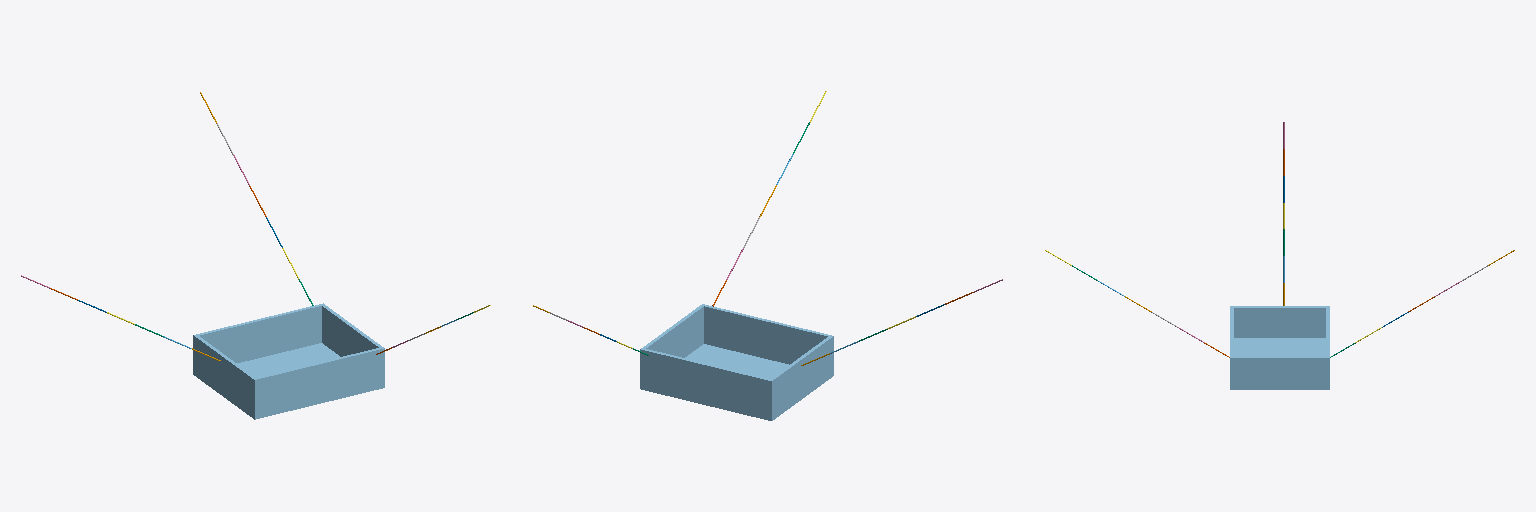
--- Render facts (derived) ---
Views: 3 orthographic renders of the robot side by side, from view 1: azimuth 30°, elevation 25°; view 2: azimuth 150°, elevation 25°; view 3: azimuth 270°, elevation 25°.
Model flycrane with 95 links and 94 joints (7 revolute, 84 continuous, 3 fixed), rooted at load_link, posed all joints at 0.
Visible links, largest first — view 1: load_link; view 2: load_link; view 3: load_link.
Boxes of the visible links, <box> form: load_link: <box>193,303,384,419</box>; load_link: <box>640,304,833,420</box>; load_link: <box>1230,306,1329,389</box>.
Size in the robot's own frame: 1.4 by 2.13 by 0.6829 metres.
Meshes: 4 distinct files referenced, 1 mesh visuals loaded (1 Collada DAE); not drawn: 15 (reference not matched to a file when rendering).

The robot description file, URDF, robot "flycrane":
<?xml version="1.0" ?>
<robot name="flycrane">
  <link name="Falcon1/base_link"/>
  <joint name="Falcon1/base_joint" type="fixed">
    <origin rpy="0 0 0" xyz="0 0 0.03"/>
    <parent link="Falcon1/base_link"/>
    <child link="Falcon1/base_link_inertia"/>
  </joint>
  <link name="Falcon1/base_link_inertia">
    <inertial>
      <mass value="0.6"/>
      <!-- [kg] -->
      <origin xyz="0 0 0"/>
      <inertia ixx="0.00164" ixy="0.0" ixz="0.0" iyy="0.00184" iyz="0.0" izz="0.0030"/>
    </inertial>
    <visual>
      <origin rpy="0 0 0" xyz="0 0 0"/>
      <geometry>
        <mesh filename="iris.dae" scale="0.5 0.5 0.5"  />
        <box size="0.1 0.1 0.05"/>
        <!-- [m] [m] [m] -->
      </geometry>
    </visual>
    <collision>
      <origin rpy="0 0 0" xyz="0 0 0"/>
      <geometry>
        <box size="0.1 0.1 0.05"/>
        <!-- [m] [m] [m] -->
      </geometry>
    </collision>
  </link>
  <joint name="Falcon1/rotor_0_joint" type="continuous">
    <origin rpy="0 0 0" xyz="0.075 -0.075 0.05"/>
    <axis xyz="0 0 1"/>
    <!-- <limit effort="2000" velocity="${max_rot_velocity}" /> -->
    <parent link="Falcon1/base_link"/>
    <child link="Falcon1/rotor_0"/>
  </joint>
  <link name="Falcon1/rotor_0">
    <inertial>
      <mass value="0.0042"/>
      <!-- [kg] -->
      <inertia ixx="8.189996723999999e-07" ixy="0.0" ixz="0.0" iyy="5.648297740679999e-05" iyz="0.0" izz="5.72389771044e-05"/>
    </inertial>
    <visual>
      <geometry>
        <mesh filename="propeller_ccw.dae" scale="0.127 0.127 0.127"/>
        <!-- The propeller meshes have a radius of 1m -->
        <!-- <box size="${2*radius_rotor} 0.01 0.005"/> -->
      </geometry>
    </visual>
    <collision>
      <geometry>
        <cylinder length="0.005" radius="0.127"/>
        <!-- [m] -->
      </geometry>
    </collision>
  </link>
  <joint name="Falcon1/rotor_1_joint" type="continuous">
    <origin rpy="0 0 0" xyz="-0.075 0.075 0.05"/>
    <axis xyz="0 0 1"/>
    <!-- <limit effort="2000" velocity="${max_rot_velocity}" /> -->
    <parent link="Falcon1/base_link"/>
    <child link="Falcon1/rotor_1"/>
  </joint>
  <link name="Falcon1/rotor_1">
    <inertial>
      <mass value="0.0042"/>
      <!-- [kg] -->
      <inertia ixx="8.189996723999999e-07" ixy="0.0" ixz="0.0" iyy="5.648297740679999e-05" iyz="0.0" izz="5.72389771044e-05"/>
    </inertial>
    <visual>
      <geometry>
        <mesh filename="propeller_ccw.dae" scale="0.127 0.127 0.127"/>
        <!-- The propeller meshes have a radius of 1m -->
        <!-- <box size="${2*radius_rotor} 0.01 0.005"/> -->
      </geometry>
    </visual>
    <collision>
      <geometry>
        <cylinder length="0.005" radius="0.127"/>
        <!-- [m] -->
      </geometry>
    </collision>
  </link>
  <joint name="Falcon1/rotor_2_joint" type="continuous">
    <origin rpy="0 0 0" xyz="-0.075 -0.075 0.05"/>
    <axis xyz="0 0 1"/>
    <!-- <limit effort="2000" velocity="${max_rot_velocity}" /> -->
    <parent link="Falcon1/base_link"/>
    <child link="Falcon1/rotor_2"/>
  </joint>
  <link name="Falcon1/rotor_2">
    <inertial>
      <mass value="0.0042"/>
      <!-- [kg] -->
      <inertia ixx="8.189996723999999e-07" ixy="0.0" ixz="0.0" iyy="5.648297740679999e-05" iyz="0.0" izz="5.72389771044e-05"/>
    </inertial>
    <visual>
      <geometry>
        <mesh filename="propeller_cw.dae" scale="0.127 0.127 0.127"/>
        <!-- The propeller meshes have a radius of 1m -->
        <!-- <box size="${2*radius_rotor} 0.01 0.005"/> -->
      </geometry>
    </visual>
    <collision>
      <geometry>
        <cylinder length="0.005" radius="0.127"/>
        <!-- [m] -->
      </geometry>
    </collision>
  </link>
  <joint name="Falcon1/rotor_3_joint" type="continuous">
    <origin rpy="0 0 0" xyz="0.075 0.075 0.05"/>
    <axis xyz="0 0 1"/>
    <!-- <limit effort="2000" velocity="${max_rot_velocity}" /> -->
    <parent link="Falcon1/base_link"/>
    <child link="Falcon1/rotor_3"/>
  </joint>
  <link name="Falcon1/rotor_3">
    <inertial>
      <mass value="0.0042"/>
      <!-- [kg] -->
      <inertia ixx="8.189996723999999e-07" ixy="0.0" ixz="0.0" iyy="5.648297740679999e-05" iyz="0.0" izz="5.72389771044e-05"/>
    </inertial>
    <visual>
      <geometry>
        <mesh filename="propeller_cw.dae" scale="0.127 0.127 0.127"/>
        <!-- The propeller meshes have a radius of 1m -->
        <!-- <box size="${2*radius_rotor} 0.01 0.005"/> -->
      </geometry>
    </visual>
    <collision>
      <geometry>
        <cylinder length="0.005" radius="0.127"/>
        <!-- [m] -->
      </geometry>
    </collision>
  </link>
  <!-- IMU link -->
  <link name="Falcon1/imu_link">
    <inertial>
      <inertia ixx="0.00001" ixy="0.0" ixz="0.0" iyy="0.00001" iyz="0.0" izz="0.00001"/>
      <mass value="1e-05"/>
      <!-- [kg] -->
      <origin rpy="0 0 0" xyz="0 0 0"/>
    </inertial>
  </link>
  <!-- IMU joint -->
  <joint name="Falcon1/imu_joint" type="revolute">
    <origin rpy="0 0 0" xyz="0 0 0.025"/>
    <parent link="Falcon1/base_link"/>
    <child link="Falcon1/imu_link"/>
    <limit effort="0" lower="0" upper="0" velocity="0"/>
  </joint>

  <!-- odometry link -->
  <link name="Falcon1/odometry_sensor_link">
    <inertial>
      <inertia ixx="0.00001" ixy="0.0" ixz="0.0" iyy="0.00001" iyz="0.0" izz="0.00001"/>
      <mass value="1e-05"/>
      <!-- [kg] -->
    </inertial>
  </link>
  <!-- odometry joint -->
  <joint name="Falcon1/odometry_sensor_joint" type="revolute">
    <parent link="Falcon1/base_link"/>
    <origin rpy="0.0 0.0 0.0" xyz="0.0 0.0 0.03"/>
    <child link="Falcon1/odometry_sensor_link"/>
    <limit effort="0" lower="0" upper="0" velocity="0"/>
  </joint>
  <!-- =============================================================== -->
  <!-- ==================== ROS INTERFACE MACRO ====================== -->
  <!-- =============================================================== -->
  <!-- <xacro:macro
  		name="ros_interface_plugin_macro"
  		params="namespace">
    <gazebo>
      <plugin name="ros_interface_plugin" filename="librotors_gazebo_ros_interface_plugin.so">
        <robotNamespace>${namespace}</robotNamespace>
      </plugin>
    </gazebo>
  </xacro:macro>-->
  <link name="Falcon2/base_link"/>
  <joint name="Falcon2/base_joint" type="fixed">
    <origin rpy="0 0 0" xyz="0 0 0.03"/>
    <parent link="Falcon2/base_link"/>
    <child link="Falcon2/base_link_inertia"/>
  </joint>
  <link name="Falcon2/base_link_inertia">
    <inertial>
      <mass value="0.6"/>
      <!-- [kg] -->
      <origin xyz="0 0 0"/>
      <inertia ixx="0.00164" ixy="0.0" ixz="0.0" iyy="0.00184" iyz="0.0" izz="0.0030"/>
    </inertial>
    <visual>
      <origin rpy="0 0 0" xyz="0 0 0"/>
      <geometry>
        <mesh filename="iris.dae" scale="0.5 0.5 0.5"  />
        <box size="0.1 0.1 0.05"/>
        <!-- [m] [m] [m] -->
      </geometry>
    </visual>
    <collision>
      <origin rpy="0 0 0" xyz="0 0 0"/>
      <geometry>
        <box size="0.1 0.1 0.05"/>
        <!-- [m] [m] [m] -->
      </geometry>
    </collision>
  </link>
  <!-- attach multirotor_base_plugin to the base_link -->
  <joint name="Falcon2/rotor_0_joint" type="continuous">
    <origin rpy="0 0 0" xyz="0.075 -0.075 0.05"/>
    <axis xyz="0 0 1"/>
    <!-- <limit effort="2000" velocity="${max_rot_velocity}" /> -->
    <parent link="Falcon2/base_link"/>
    <child link="Falcon2/rotor_0"/>
  </joint>
  <link name="Falcon2/rotor_0">
    <inertial>
      <mass value="0.0042"/>
      <!-- [kg] -->
      <inertia ixx="8.189996723999999e-07" ixy="0.0" ixz="0.0" iyy="5.648297740679999e-05" iyz="0.0" izz="5.72389771044e-05"/>
    </inertial>
    <visual>
      <geometry>
        <mesh filename="propeller_ccw.dae" scale="0.127 0.127 0.127"/>
        <!-- The propeller meshes have a radius of 1m -->
        <!-- <box size="${2*radius_rotor} 0.01 0.005"/> -->
      </geometry>
    </visual>
    <collision>
      <geometry>
        <cylinder length="0.005" radius="0.127"/>
        <!-- [m] -->
      </geometry>
    </collision>
  </link>


  <joint name="Falcon2/rotor_1_joint" type="continuous">
    <origin rpy="0 0 0" xyz="-0.075 0.075 0.05"/>
    <axis xyz="0 0 1"/>
    <!-- <limit effort="2000" velocity="${max_rot_velocity}" /> -->
    <parent link="Falcon2/base_link"/>
    <child link="Falcon2/rotor_1"/>
  </joint>
  <link name="Falcon2/rotor_1">
    <inertial>
      <mass value="0.0042"/>
      <!-- [kg] -->
      <inertia ixx="8.189996723999999e-07" ixy="0.0" ixz="0.0" iyy="5.648297740679999e-05" iyz="0.0" izz="5.72389771044e-05"/>
    </inertial>
    <visual>
      <geometry>
        <mesh filename="propeller_ccw.dae" scale="0.127 0.127 0.127"/>
        <!-- The propeller meshes have a radius of 1m -->
        <!-- <box size="${2*radius_rotor} 0.01 0.005"/> -->
      </geometry>
    </visual>
    <collision>
      <geometry>
        <cylinder length="0.005" radius="0.127"/>
        <!-- [m] -->
      </geometry>
    </collision>
  </link>


  <joint name="Falcon2/rotor_2_joint" type="continuous">
    <origin rpy="0 0 0" xyz="-0.075 -0.075 0.05"/>
    <axis xyz="0 0 1"/>
    <!-- <limit effort="2000" velocity="${max_rot_velocity}" /> -->
    <parent link="Falcon2/base_link"/>
    <child link="Falcon2/rotor_2"/>
  </joint>
  <link name="Falcon2/rotor_2">
    <inertial>
      <mass value="0.0042"/>
      <!-- [kg] -->
      <inertia ixx="8.189996723999999e-07" ixy="0.0" ixz="0.0" iyy="5.648297740679999e-05" iyz="0.0" izz="5.72389771044e-05"/>
    </inertial>
    <visual>
      <geometry>
        <mesh filename="propeller_cw.dae" scale="0.127 0.127 0.127"/>
        <!-- The propeller meshes have a radius of 1m -->
        <!-- <box size="${2*radius_rotor} 0.01 0.005"/> -->
      </geometry>
    </visual>
    <collision>
      <geometry>
        <cylinder length="0.005" radius="0.127"/>
        <!-- [m] -->
      </geometry>
    </collision>
  </link>


  <joint name="Falcon2/rotor_3_joint" type="continuous">
    <origin rpy="0 0 0" xyz="0.075 0.075 0.05"/>
    <axis xyz="0 0 1"/>
    <!-- <limit effort="2000" velocity="${max_rot_velocity}" /> -->
    <parent link="Falcon2/base_link"/>
    <child link="Falcon2/rotor_3"/>
  </joint>
  <link name="Falcon2/rotor_3">
    <inertial>
      <mass value="0.0042"/>
      <!-- [kg] -->
      <inertia ixx="8.189996723999999e-07" ixy="0.0" ixz="0.0" iyy="5.648297740679999e-05" iyz="0.0" izz="5.72389771044e-05"/>
    </inertial>
    <visual>
      <geometry>
        <mesh filename="propeller_cw.dae" scale="0.127 0.127 0.127"/>
        <!-- The propeller meshes have a radius of 1m -->
        <!-- <box size="${2*radius_rotor} 0.01 0.005"/> -->
      </geometry>
    </visual>
    <collision>
      <geometry>
        <cylinder length="0.005" radius="0.127"/>
        <!-- [m] -->
      </geometry>
    </collision>
  </link>



  <!-- IMU link -->
  <link name="Falcon2/imu_link">
    <inertial>
      <inertia ixx="0.00001" ixy="0.0" ixz="0.0" iyy="0.00001" iyz="0.0" izz="0.00001"/>
      <mass value="1e-05"/>
      <!-- [kg] -->
      <origin rpy="0 0 0" xyz="0 0 0"/>
    </inertial>
  </link>
  <!-- IMU joint -->
  <joint name="Falcon2/imu_joint" type="revolute">
    <origin rpy="0 0 0" xyz="0 0 0.025"/>
    <parent link="Falcon2/base_link"/>
    <child link="Falcon2/imu_link"/>
    <limit effort="0" lower="0" upper="0" velocity="0"/>
  </joint>

  <!-- odometry link -->
  <link name="Falcon2/odometry_sensor_link">
    <inertial>
      <inertia ixx="0.00001" ixy="0.0" ixz="0.0" iyy="0.00001" iyz="0.0" izz="0.00001"/>
      <mass value="1e-05"/>
      <!-- [kg] -->
    </inertial>
  </link>
  <!-- odometry joint -->
  <joint name="Falcon2/odometry_sensor_joint" type="revolute">
    <parent link="Falcon2/base_link"/>
    <origin rpy="0.0 0.0 0.0" xyz="0.0 0.0 0.03"/>
    <child link="Falcon2/odometry_sensor_link"/>
    <limit effort="0" lower="0" upper="0" velocity="0"/>
  </joint>

  <!-- =============================================================== -->
  <!-- ==================== ROS INTERFACE MACRO ====================== -->
  <!-- =============================================================== -->
  <!-- <xacro:macro
  		name="ros_interface_plugin_macro"
  		params="namespace">
    <gazebo>
      <plugin name="ros_interface_plugin" filename="librotors_gazebo_ros_interface_plugin.so">
        <robotNamespace>${namespace}</robotNamespace>
      </plugin>
    </gazebo>
  </xacro:macro>-->
  <link name="Falcon3/base_link"/>
  <joint name="Falcon3/base_joint" type="fixed">
    <origin rpy="0 0 0" xyz="0 0 0.03"/>
    <parent link="Falcon3/base_link"/>
    <child link="Falcon3/base_link_inertia"/>
  </joint>
  <link name="Falcon3/base_link_inertia">
    <inertial>
      <mass value="0.6"/>
      <!-- [kg] -->
      <origin xyz="0 0 0"/>
      <inertia ixx="0.00164" ixy="0.0" ixz="0.0" iyy="0.00184" iyz="0.0" izz="0.0030"/>
    </inertial>
    <visual>
      <origin rpy="0 0 0" xyz="0 0 0"/>
      <geometry>
        <mesh filename="iris.dae" scale="0.5 0.5 0.5"  />
        <box size="0.1 0.1 0.05"/>
        <!-- [m] [m] [m] -->
      </geometry>
    </visual>
    <collision>
      <origin rpy="0 0 0" xyz="0 0 0"/>
      <geometry>
        <box size="0.1 0.1 0.05"/>
        <!-- [m] [m] [m] -->
      </geometry>
    </collision>
  </link>
  <!-- attach multirotor_base_plugin to the base_link -->

  <joint name="Falcon3/rotor_0_joint" type="continuous">
    <origin rpy="0 0 0" xyz="0.075 -0.075 0.05"/>
    <axis xyz="0 0 1"/>
    <!-- <limit effort="2000" velocity="${max_rot_velocity}" /> -->
    <parent link="Falcon3/base_link"/>
    <child link="Falcon3/rotor_0"/>
  </joint>
  <link name="Falcon3/rotor_0">
    <inertial>
      <mass value="0.0042"/>
      <!-- [kg] -->
      <inertia ixx="8.189996723999999e-07" ixy="0.0" ixz="0.0" iyy="5.648297740679999e-05" iyz="0.0" izz="5.72389771044e-05"/>
    </inertial>
    <visual>
      <geometry>
        <mesh filename="propeller_ccw.dae" scale="0.127 0.127 0.127"/>
        <!-- The propeller meshes have a radius of 1m -->
        <!-- <box size="${2*radius_rotor} 0.01 0.005"/> -->
      </geometry>
    </visual>
    <collision>
      <geometry>
        <cylinder length="0.005" radius="0.127"/>
        <!-- [m] -->
      </geometry>
    </collision>
  </link>


  <joint name="Falcon3/rotor_1_joint" type="continuous">
    <origin rpy="0 0 0" xyz="-0.075 0.075 0.05"/>
    <axis xyz="0 0 1"/>
    <!-- <limit effort="2000" velocity="${max_rot_velocity}" /> -->
    <parent link="Falcon3/base_link"/>
    <child link="Falcon3/rotor_1"/>
  </joint>
  <link name="Falcon3/rotor_1">
    <inertial>
      <mass value="0.0042"/>
      <!-- [kg] -->
      <inertia ixx="8.189996723999999e-07" ixy="0.0" ixz="0.0" iyy="5.648297740679999e-05" iyz="0.0" izz="5.72389771044e-05"/>
    </inertial>
    <visual>
      <geometry>
        <mesh filename="propeller_ccw.dae" scale="0.127 0.127 0.127"/>
        <!-- The propeller meshes have a radius of 1m -->
        <!-- <box size="${2*radius_rotor} 0.01 0.005"/> -->
      </geometry>
    </visual>
    <collision>
      <geometry>
        <cylinder length="0.005" radius="0.127"/>
        <!-- [m] -->
      </geometry>
    </collision>
  </link>


  <joint name="Falcon3/rotor_2_joint" type="continuous">
    <origin rpy="0 0 0" xyz="-0.075 -0.075 0.05"/>
    <axis xyz="0 0 1"/>
    <!-- <limit effort="2000" velocity="${max_rot_velocity}" /> -->
    <parent link="Falcon3/base_link"/>
    <child link="Falcon3/rotor_2"/>
  </joint>
  <link name="Falcon3/rotor_2">
    <inertial>
      <mass value="0.0042"/>
      <!-- [kg] -->
      <inertia ixx="8.189996723999999e-07" ixy="0.0" ixz="0.0" iyy="5.648297740679999e-05" iyz="0.0" izz="5.72389771044e-05"/>
    </inertial>
    <visual>
      <geometry>
        <mesh filename="propeller_cw.dae" scale="0.127 0.127 0.127"/>
        <!-- The propeller meshes have a radius of 1m -->
        <!-- <box size="${2*radius_rotor} 0.01 0.005"/> -->
      </geometry>
    </visual>
    <collision>
      <geometry>
        <cylinder length="0.005" radius="0.127"/>
        <!-- [m] -->
      </geometry>
    </collision>
  </link>


  <joint name="Falcon3/rotor_3_joint" type="continuous">
    <origin rpy="0 0 0" xyz="0.075 0.075 0.05"/>
    <axis xyz="0 0 1"/>
    <!-- <limit effort="2000" velocity="${max_rot_velocity}" /> -->
    <parent link="Falcon3/base_link"/>
    <child link="Falcon3/rotor_3"/>
  </joint>
  <link name="Falcon3/rotor_3">
    <inertial>
      <mass value="0.0042"/>
      <!-- [kg] -->
      <inertia ixx="8.189996723999999e-07" ixy="0.0" ixz="0.0" iyy="5.648297740679999e-05" iyz="0.0" izz="5.72389771044e-05"/>
    </inertial>
    <visual>
      <geometry>
        <mesh filename="propeller_cw.dae" scale="0.127 0.127 0.127"/>
        <!-- The propeller meshes have a radius of 1m -->
        <!-- <box size="${2*radius_rotor} 0.01 0.005"/> -->
      </geometry>
    </visual>
    <collision>
      <geometry>
        <cylinder length="0.005" radius="0.127"/>
        <!-- [m] -->
      </geometry>
    </collision>
  </link>



  <!-- IMU link -->
  <link name="Falcon3/imu_link">
    <inertial>
      <inertia ixx="0.00001" ixy="0.0" ixz="0.0" iyy="0.00001" iyz="0.0" izz="0.00001"/>
      <mass value="1e-05"/>
      <!-- [kg] -->
      <origin rpy="0 0 0" xyz="0 0 0"/>
    </inertial>
  </link>
  <!-- IMU joint -->
  <joint name="Falcon3/imu_joint" type="revolute">
    <origin rpy="0 0 0" xyz="0 0 0.025"/>
    <parent link="Falcon3/base_link"/>
    <child link="Falcon3/imu_link"/>
    <limit effort="0" lower="0" upper="0" velocity="0"/>
  </joint>
  <!-- odometry link -->
  <link name="Falcon3/odometry_sensor_link">
    <inertial>
      <inertia ixx="0.00001" ixy="0.0" ixz="0.0" iyy="0.00001" iyz="0.0" izz="0.00001"/>
      <mass value="1e-05"/>
      <!-- [kg] -->
    </inertial>
  </link>
  <!-- odometry joint -->
  <joint name="Falcon3/odometry_sensor_joint" type="revolute">
    <parent link="Falcon3/base_link"/>
    <origin rpy="0.0 0.0 0.0" xyz="0.0 0.0 0.03"/>
    <child link="Falcon3/odometry_sensor_link"/>
    <limit effort="0" lower="0" upper="0" velocity="0"/>
  </joint>
  <!-- <xacro:property name="mesh_path" value="model://mdcm/meshes/basket.dae"/> -->
  <link name="load_link">
    <visual name="visual">
      <geometry>
        <mesh filename="basket.dae" scale="1 1 1"/>
      </geometry>
    </visual>
    <material>
      <color rgba="0.5 0.5 0.5 0.5"/>
    </material>
    <collision name="collision">
      <geometry>
        <mesh filename="basket.dae" scale="1 1 1"/>
        <!-- <box size="0.55 0.45 0.15"/> -->
      </geometry>
    </collision>
    <inertial>
      <mass value="1.4"/>
      <origin rpy="0 0 0" xyz="0 0 0.06"/>
      <inertia ixx="0.02625" ixy="0" ixz="0" iyy="0.03791666666666667" iyz="0" izz="0.05891666666666667"/>
    </inertial>
  </link>
  <!-- odometry link -->
  <link name="load/odometry_sensor_link">
    <inertial>
      <inertia ixx="0.00001" ixy="0.0" ixz="0.0" iyy="0.00001" iyz="0.0" izz="0.00001"/>
      <mass value="1e-05"/>
      <!-- [kg] -->
    </inertial>
  </link>
  <!-- odometry joint -->
  <joint name="load/odometry_sensor_joint" type="revolute">
    <parent link="load_link"/>
    <origin rpy="0.0 0.0 0.0" xyz="0.0 0.0 0.08"/>
    <child link="load/odometry_sensor_link"/>
    <limit effort="0" lower="0" upper="0" velocity="0"/>
  </joint>
  <link name="rope_1_link_0">
    <visual>
      <!-- Set the origin to the start of the cilinder -->
      <origin rpy="0 0 0" xyz="0 0 0.0715"/>
      <geometry>
        <cylinder length="0.143" radius="0.0025"/>
      </geometry>
    </visual>
    <collision>
      <origin rpy="0 0 0" xyz="0 0 0.0715"/>
      <geometry>
        <cylinder length="0.143" radius="0.0025"/>
      </geometry>
    </collision>
    <inertial>
      <!-- Set the origin to the start of the cilinder -->
      <origin rpy="0 0 0" xyz="0 0 0"/>
      <mass value="0.0033692587500000004"/>
      <inertia ixx="0.00001" ixy="0" ixz="0" iyy="0.00001" iyz="0" izz="0.00001"/>
    </inertial>
  </link>
  <link name="rope_1_link_1">
    <visual>
      <!-- Set the origin to the start of the cilinder -->
      <origin rpy="0 0 0" xyz="0 0 0.0715"/>
      <geometry>
        <cylinder length="0.143" radius="0.0025"/>
      </geometry>
    </visual>
    <collision>
      <origin rpy="0 0 0" xyz="0 0 0.0715"/>
      <geometry>
        <cylinder length="0.143" radius="0.0025"/>
      </geometry>
    </collision>
    <inertial>
      <!-- Set the origin to the start of the cilinder -->
      <origin rpy="0 0 0" xyz="0 0 0"/>
      <mass value="0.0033692587500000004"/>
      <inertia ixx="0.00001" ixy="0" ixz="0" iyy="0.00001" iyz="0" izz="0.00001"/>
    </inertial>
  </link>
  <link name="rope_1_link_2">
    <visual>
      <!-- Set the origin to the start of the cilinder -->
      <origin rpy="0 0 0" xyz="0 0 0.0715"/>
      <geometry>
        <cylinder length="0.143" radius="0.0025"/>
      </geometry>
    </visual>
    <collision>
      <origin rpy="0 0 0" xyz="0 0 0.0715"/>
      <geometry>
        <cylinder length="0.143" radius="0.0025"/>
      </geometry>
    </collision>
    <inertial>
      <!-- Set the origin to the start of the cilinder -->
      <origin rpy="0 0 0" xyz="0 0 0"/>
      <mass value="0.0033692587500000004"/>
      <inertia ixx="0.00001" ixy="0" ixz="0" iyy="0.00001" iyz="0" izz="0.00001"/>
    </inertial>
  </link>
  <link name="rope_1_link_3">
    <visual>
      <!-- Set the origin to the start of the cilinder -->
      <origin rpy="0 0 0" xyz="0 0 0.0715"/>
      <geometry>
        <cylinder length="0.143" radius="0.0025"/>
      </geometry>
    </visual>
    <collision>
      <origin rpy="0 0 0" xyz="0 0 0.0715"/>
      <geometry>
        <cylinder length="0.143" radius="0.0025"/>
      </geometry>
    </collision>
    <inertial>
      <!-- Set the origin to the start of the cilinder -->
      <origin rpy="0 0 0" xyz="0 0 0"/>
      <mass value="0.0033692587500000004"/>
      <inertia ixx="0.00001" ixy="0" ixz="0" iyy="0.00001" iyz="0" izz="0.00001"/>
    </inertial>
  </link>
  <link name="rope_1_link_4">
    <visual>
      <!-- Set the origin to the start of the cilinder -->
      <origin rpy="0 0 0" xyz="0 0 0.0715"/>
      <geometry>
        <cylinder length="0.143" radius="0.0025"/>
      </geometry>
    </visual>
    <collision>
      <origin rpy="0 0 0" xyz="0 0 0.0715"/>
      <geometry>
        <cylinder length="0.143" radius="0.0025"/>
      </geometry>
    </collision>
    <inertial>
      <!-- Set the origin to the start of the cilinder -->
      <origin rpy="0 0 0" xyz="0 0 0"/>
      <mass value="0.0033692587500000004"/>
      <inertia ixx="0.00001" ixy="0" ixz="0" iyy="0.00001" iyz="0" izz="0.00001"/>
    </inertial>
  </link>
  <link name="rope_1_link_5">
    <visual>
      <!-- Set the origin to the start of the cilinder -->
      <origin rpy="0 0 0" xyz="0 0 0.0715"/>
      <geometry>
        <cylinder length="0.143" radius="0.0025"/>
      </geometry>
    </visual>
    <collision>
      <origin rpy="0 0 0" xyz="0 0 0.0715"/>
      <geometry>
        <cylinder length="0.143" radius="0.0025"/>
      </geometry>
    </collision>
    <inertial>
      <!-- Set the origin to the start of the cilinder -->
      <origin rpy="0 0 0" xyz="0 0 0"/>
      <mass value="0.0033692587500000004"/>
      <inertia ixx="0.00001" ixy="0" ixz="0" iyy="0.00001" iyz="0" izz="0.00001"/>
    </inertial>
  </link>
  <link name="rope_1_link_6">
    <visual>
      <!-- Set the origin to the start of the cilinder -->
      <origin rpy="0 0 0" xyz="0 0 0.0715"/>
      <geometry>
        <cylinder length="0.143" radius="0.0025"/>
      </geometry>
    </visual>
    <collision>
      <origin rpy="0 0 0" xyz="0 0 0.0715"/>
      <geometry>
        <cylinder length="0.143" radius="0.0025"/>
      </geometry>
    </collision>
    <inertial>
      <!-- Set the origin to the start of the cilinder -->
      <origin rpy="0 0 0" xyz="0 0 0"/>
      <mass value="0.0033692587500000004"/>
      <inertia ixx="0.00001" ixy="0" ixz="0" iyy="0.00001" iyz="0" izz="0.00001"/>
    </inertial>
  </link>
  <link name="rope_1_sphere_joint_1_link_1">
    <inertial>
      <mass value="0.001"/>
      <inertia ixx="0.0001" ixy="0" ixz="0" iyy="0.0001" iyz="0" izz="0.0001"/>
    </inertial>
  </link>
  <link name="rope_1_sphere_joint_1_link_2">
    <inertial>
      <mass value="0.001"/>
      <inertia ixx="0.0001" ixy="0" ixz="0" iyy="0.0001" iyz="0" izz="0.0001"/>
    </inertial>
  </link>
  <joint name="rope_1_sphere_joint_1_joint_x" type="continuous">
    <parent link="rope_1_link_0"/>
    <child link="rope_1_sphere_joint_1_link_1"/>
    <origin rpy="0 0 0" xyz="0 0 0.143"/>
    <axis xyz="1 0 0"/>
    <dynamics damping="0.005"/>
  </joint>
  <joint name="rope_1_sphere_joint_1_joint_y" type="continuous">
    <parent link="rope_1_sphere_joint_1_link_1"/>
    <child link="rope_1_sphere_joint_1_link_2"/>
    <axis xyz="0 1 0"/>
    <dynamics damping="0.005"/>
  </joint>
  <joint name="rope_1_sphere_joint_1_joint_z" type="continuous">
    <parent link="rope_1_sphere_joint_1_link_2"/>
    <child link="rope_1_link_1"/>
    <axis xyz="0 0 1"/>
    <dynamics damping="0.005"/>
  </joint>
  <link name="rope_1_sphere_joint_2_link_1">
    <inertial>
      <mass value="0.001"/>
      <inertia ixx="0.0001" ixy="0" ixz="0" iyy="0.0001" iyz="0" izz="0.0001"/>
    </inertial>
  </link>
  <link name="rope_1_sphere_joint_2_link_2">
    <inertial>
      <mass value="0.001"/>
      <inertia ixx="0.0001" ixy="0" ixz="0" iyy="0.0001" iyz="0" izz="0.0001"/>
    </inertial>
  </link>
  <joint name="rope_1_sphere_joint_2_joint_x" type="continuous">
    <parent link="rope_1_link_1"/>
    <child link="rope_1_sphere_joint_2_link_1"/>
    <origin rpy="0 0 0" xyz="0 0 0.143"/>
    <axis xyz="1 0 0"/>
    <dynamics damping="0.005"/>
  </joint>
  <joint name="rope_1_sphere_joint_2_joint_y" type="continuous">
    <parent link="rope_1_sphere_joint_2_link_1"/>
    <child link="rope_1_sphere_joint_2_link_2"/>
    <axis xyz="0 1 0"/>
    <dynamics damping="0.005"/>
  </joint>
  <joint name="rope_1_sphere_joint_2_joint_z" type="continuous">
    <parent link="rope_1_sphere_joint_2_link_2"/>
    <child link="rope_1_link_2"/>
    <axis xyz="0 0 1"/>
    <dynamics damping="0.005"/>
  </joint>
  <link name="rope_1_sphere_joint_3_link_1">
    <inertial>
      <mass value="0.001"/>
      <inertia ixx="0.0001" ixy="0" ixz="0" iyy="0.0001" iyz="0" izz="0.0001"/>
    </inertial>
  </link>
  <link name="rope_1_sphere_joint_3_link_2">
    <inertial>
      <mass value="0.001"/>
      <inertia ixx="0.0001" ixy="0" ixz="0" iyy="0.0001" iyz="0" izz="0.0001"/>
    </inertial>
  </link>
  <joint name="rope_1_sphere_joint_3_joint_x" type="continuous">
    <parent link="rope_1_link_2"/>
    <child link="rope_1_sphere_joint_3_link_1"/>
    <origin rpy="0 0 0" xyz="0 0 0.143"/>
    <axis xyz="1 0 0"/>
    <dynamics damping="0.005"/>
  </joint>
  <joint name="rope_1_sphere_joint_3_joint_y" type="continuous">
    <parent link="rope_1_sphere_joint_3_link_1"/>
    <child link="rope_1_sphere_joint_3_link_2"/>
    <axis xyz="0 1 0"/>
    <dynamics damping="0.005"/>
  </joint>
  <joint name="rope_1_sphere_joint_3_joint_z" type="continuous">
    <parent link="rope_1_sphere_joint_3_link_2"/>
    <child link="rope_1_link_3"/>
    <axis xyz="0 0 1"/>
    <dynamics damping="0.005"/>
  </joint>
  <link name="rope_1_sphere_joint_4_link_1">
    <inertial>
      <mass value="0.001"/>
      <inertia ixx="0.0001" ixy="0" ixz="0" iyy="0.0001" iyz="0" izz="0.0001"/>
    </inertial>
  </link>
  <link name="rope_1_sphere_joint_4_link_2">
    <inertial>
      <mass value="0.001"/>
      <inertia ixx="0.0001" ixy="0" ixz="0" iyy="0.0001" iyz="0" izz="0.0001"/>
    </inertial>
  </link>
  <joint name="rope_1_sphere_joint_4_joint_x" type="continuous">
    <parent link="rope_1_link_3"/>
    <child link="rope_1_sphere_joint_4_link_1"/>
    <origin rpy="0 0 0" xyz="0 0 0.143"/>
    <axis xyz="1 0 0"/>
    <dynamics damping="0.005"/>
  </joint>
  <joint name="rope_1_sphere_joint_4_joint_y" type="continuous">
    <parent link="rope_1_sphere_joint_4_link_1"/>
    <child link="rope_1_sphere_joint_4_link_2"/>
    <axis xyz="0 1 0"/>
    <dynamics damping="0.005"/>
  </joint>
  <joint name="rope_1_sphere_joint_4_joint_z" type="continuous">
    <parent link="rope_1_sphere_joint_4_link_2"/>
    <child link="rope_1_link_4"/>
    <axis xyz="0 0 1"/>
    <dynamics damping="0.005"/>
  </joint>
  <link name="rope_1_sphere_joint_5_link_1">
    <inertial>
      <mass value="0.001"/>
      <inertia ixx="0.0001" ixy="0" ixz="0" iyy="0.0001" iyz="0" izz="0.0001"/>
    </inertial>
  </link>
  <link name="rope_1_sphere_joint_5_link_2">
    <inertial>
      <mass value="0.001"/>
      <inertia ixx="0.0001" ixy="0" ixz="0" iyy="0.0001" iyz="0" izz="0.0001"/>
    </inertial>
  </link>
  <joint name="rope_1_sphere_joint_5_joint_x" type="continuous">
    <parent link="rope_1_link_4"/>
    <child link="rope_1_sphere_joint_5_link_1"/>
    <origin rpy="0 0 0" xyz="0 0 0.143"/>
    <axis xyz="1 0 0"/>
    <dynamics damping="0.005"/>
  </joint>
  <joint name="rope_1_sphere_joint_5_joint_y" type="continuous">
    <parent link="rope_1_sphere_joint_5_link_1"/>
    <child link="rope_1_sphere_joint_5_link_2"/>
    <axis xyz="0 1 0"/>
    <dynamics damping="0.005"/>
  </joint>
  <joint name="rope_1_sphere_joint_5_joint_z" type="continuous">
    <parent link="rope_1_sphere_joint_5_link_2"/>
    <child link="rope_1_link_5"/>
    <axis xyz="0 0 1"/>
    <dynamics damping="0.005"/>
  </joint>
  <link name="rope_1_sphere_joint_6_link_1">
    <inertial>
      <mass value="0.001"/>
      <inertia ixx="0.0001" ixy="0" ixz="0" iyy="0.0001" iyz="0" izz="0.0001"/>
    </inertial>
  </link>
  <link name="rope_1_sphere_joint_6_link_2">
    <inertial>
      <mass value="0.001"/>
      <inertia ixx="0.0001" ixy="0" ixz="0" iyy="0.0001" iyz="0" izz="0.0001"/>
    </inertial>
  </link>
  <joint name="rope_1_sphere_joint_6_joint_x" type="continuous">
    <parent link="rope_1_link_5"/>
    <child link="rope_1_sphere_joint_6_link_1"/>
    <origin rpy="0 0 0" xyz="0 0 0.143"/>
    <axis xyz="1 0 0"/>
    <dynamics damping="0.005"/>
  </joint>
  <joint name="rope_1_sphere_joint_6_joint_y" type="continuous">
    <parent link="rope_1_sphere_joint_6_link_1"/>
    <child link="rope_1_sphere_joint_6_link_2"/>
    <axis xyz="0 1 0"/>
    <dynamics damping="0.005"/>
  </joint>
  <joint name="rope_1_sphere_joint_6_joint_z" type="continuous">
    <parent link="rope_1_sphere_joint_6_link_2"/>
    <child link="rope_1_link_6"/>
    <axis xyz="0 0 1"/>
    <dynamics damping="0.005"/>
  </joint>
  <link name="rope_2_link_0">
    <visual>
      <!-- Set the origin to the start of the cilinder -->
      <origin rpy="0 0 0" xyz="0 0 0.0715"/>
      <geometry>
        <cylinder length="0.143" radius="0.0025"/>
      </geometry>
    </visual>
    <collision>
      <origin rpy="0 0 0" xyz="0 0 0.0715"/>
      <geometry>
        <cylinder length="0.143" radius="0.0025"/>
      </geometry>
    </collision>
    <inertial>
      <!-- Set the origin to the start of the cilinder -->
      <origin rpy="0 0 0" xyz="0 0 0"/>
      <mass value="0.0033692587500000004"/>
      <inertia ixx="0.00001" ixy="0" ixz="0" iyy="0.00001" iyz="0" izz="0.00001"/>
    </inertial>
  </link>
  <link name="rope_2_link_1">
    <visual>
      <!-- Set the origin to the start of the cilinder -->
      <origin rpy="0 0 0" xyz="0 0 0.0715"/>
      <geometry>
        <cylinder length="0.143" radius="0.0025"/>
      </geometry>
    </visual>
    <collision>
      <origin rpy="0 0 0" xyz="0 0 0.0715"/>
      <geometry>
        <cylinder length="0.143" radius="0.0025"/>
      </geometry>
    </collision>
    <inertial>
      <!-- Set the origin to the start of the cilinder -->
      <origin rpy="0 0 0" xyz="0 0 0"/>
      <mass value="0.0033692587500000004"/>
      <inertia ixx="0.00001" ixy="0" ixz="0" iyy="0.00001" iyz="0" izz="0.00001"/>
    </inertial>
  </link>
  <link name="rope_2_link_2">
    <visual>
      <!-- Set the origin to the start of the cilinder -->
      <origin rpy="0 0 0" xyz="0 0 0.0715"/>
      <geometry>
        <cylinder length="0.143" radius="0.0025"/>
      </geometry>
    </visual>
    <collision>
      <origin rpy="0 0 0" xyz="0 0 0.0715"/>
      <geometry>
        <cylinder length="0.143" radius="0.0025"/>
      </geometry>
    </collision>
    <inertial>
      <!-- Set the origin to the start of the cilinder -->
      <origin rpy="0 0 0" xyz="0 0 0"/>
      <mass value="0.0033692587500000004"/>
      <inertia ixx="0.00001" ixy="0" ixz="0" iyy="0.00001" iyz="0" izz="0.00001"/>
    </inertial>
  </link>
  <link name="rope_2_link_3">
    <visual>
      <!-- Set the origin to the start of the cilinder -->
      <origin rpy="0 0 0" xyz="0 0 0.0715"/>
      <geometry>
        <cylinder length="0.143" radius="0.0025"/>
      </geometry>
    </visual>
    <collision>
      <origin rpy="0 0 0" xyz="0 0 0.0715"/>
      <geometry>
        <cylinder length="0.143" radius="0.0025"/>
      </geometry>
    </collision>
    <inertial>
      <!-- Set the origin to the start of the cilinder -->
      <origin rpy="0 0 0" xyz="0 0 0"/>
      <mass value="0.0033692587500000004"/>
      <inertia ixx="0.00001" ixy="0" ixz="0" iyy="0.00001" iyz="0" izz="0.00001"/>
    </inertial>
  </link>
  <link name="rope_2_link_4">
    <visual>
      <!-- Set the origin to the start of the cilinder -->
      <origin rpy="0 0 0" xyz="0 0 0.0715"/>
      <geometry>
        <cylinder length="0.143" radius="0.0025"/>
      </geometry>
    </visual>
    <collision>
      <origin rpy="0 0 0" xyz="0 0 0.0715"/>
      <geometry>
        <cylinder length="0.143" radius="0.0025"/>
      </geometry>
    </collision>
    <inertial>
      <!-- Set the origin to the start of the cilinder -->
      <origin rpy="0 0 0" xyz="0 0 0"/>
      <mass value="0.0033692587500000004"/>
      <inertia ixx="0.00001" ixy="0" ixz="0" iyy="0.00001" iyz="0" izz="0.00001"/>
    </inertial>
  </link>
  <link name="rope_2_link_5">
    <visual>
      <!-- Set the origin to the start of the cilinder -->
      <origin rpy="0 0 0" xyz="0 0 0.0715"/>
      <geometry>
        <cylinder length="0.143" radius="0.0025"/>
      </geometry>
    </visual>
    <collision>
      <origin rpy="0 0 0" xyz="0 0 0.0715"/>
      <geometry>
        <cylinder length="0.143" radius="0.0025"/>
      </geometry>
    </collision>
    <inertial>
      <!-- Set the origin to the start of the cilinder -->
      <origin rpy="0 0 0" xyz="0 0 0"/>
      <mass value="0.0033692587500000004"/>
      <inertia ixx="0.00001" ixy="0" ixz="0" iyy="0.00001" iyz="0" izz="0.00001"/>
    </inertial>
  </link>
  <link name="rope_2_link_6">
    <visual>
      <!-- Set the origin to the start of the cilinder -->
      <origin rpy="0 0 0" xyz="0 0 0.0715"/>
      <geometry>
        <cylinder length="0.143" radius="0.0025"/>
      </geometry>
    </visual>
    <collision>
      <origin rpy="0 0 0" xyz="0 0 0.0715"/>
      <geometry>
        <cylinder length="0.143" radius="0.0025"/>
      </geometry>
    </collision>
    <inertial>
      <!-- Set the origin to the start of the cilinder -->
      <origin rpy="0 0 0" xyz="0 0 0"/>
      <mass value="0.0033692587500000004"/>
      <inertia ixx="0.00001" ixy="0" ixz="0" iyy="0.00001" iyz="0" izz="0.00001"/>
    </inertial>
  </link>
  <link name="rope_2_sphere_joint_1_link_1">
    <inertial>
      <mass value="0.001"/>
      <inertia ixx="0.0001" ixy="0" ixz="0" iyy="0.0001" iyz="0" izz="0.0001"/>
    </inertial>
  </link>
  <link name="rope_2_sphere_joint_1_link_2">
    <inertial>
      <mass value="0.001"/>
      <inertia ixx="0.0001" ixy="0" ixz="0" iyy="0.0001" iyz="0" izz="0.0001"/>
    </inertial>
  </link>
  <joint name="rope_2_sphere_joint_1_joint_x" type="continuous">
    <parent link="rope_2_link_0"/>
    <child link="rope_2_sphere_joint_1_link_1"/>
    <origin rpy="0 0 0" xyz="0 0 0.143"/>
    <axis xyz="1 0 0"/>
    <dynamics damping="0.005"/>
  </joint>
  <joint name="rope_2_sphere_joint_1_joint_y" type="continuous">
    <parent link="rope_2_sphere_joint_1_link_1"/>
    <child link="rope_2_sphere_joint_1_link_2"/>
    <axis xyz="0 1 0"/>
    <dynamics damping="0.005"/>
  </joint>
  <joint name="rope_2_sphere_joint_1_joint_z" type="continuous">
    <parent link="rope_2_sphere_joint_1_link_2"/>
    <child link="rope_2_link_1"/>
    <axis xyz="0 0 1"/>
    <dynamics damping="0.005"/>
  </joint>
  <link name="rope_2_sphere_joint_2_link_1">
    <inertial>
      <mass value="0.001"/>
      <inertia ixx="0.0001" ixy="0" ixz="0" iyy="0.0001" iyz="0" izz="0.0001"/>
    </inertial>
  </link>
  <link name="rope_2_sphere_joint_2_link_2">
    <inertial>
      <mass value="0.001"/>
      <inertia ixx="0.0001" ixy="0" ixz="0" iyy="0.0001" iyz="0" izz="0.0001"/>
    </inertial>
  </link>
  <joint name="rope_2_sphere_joint_2_joint_x" type="continuous">
    <parent link="rope_2_link_1"/>
    <child link="rope_2_sphere_joint_2_link_1"/>
    <origin rpy="0 0 0" xyz="0 0 0.143"/>
    <axis xyz="1 0 0"/>
    <dynamics damping="0.005"/>
  </joint>
  <joint name="rope_2_sphere_joint_2_joint_y" type="continuous">
    <parent link="rope_2_sphere_joint_2_link_1"/>
    <child link="rope_2_sphere_joint_2_link_2"/>
    <axis xyz="0 1 0"/>
    <dynamics damping="0.005"/>
  </joint>
  <joint name="rope_2_sphere_joint_2_joint_z" type="continuous">
    <parent link="rope_2_sphere_joint_2_link_2"/>
    <child link="rope_2_link_2"/>
    <axis xyz="0 0 1"/>
    <dynamics damping="0.005"/>
  </joint>
  <link name="rope_2_sphere_joint_3_link_1">
    <inertial>
      <mass value="0.001"/>
      <inertia ixx="0.0001" ixy="0" ixz="0" iyy="0.0001" iyz="0" izz="0.0001"/>
    </inertial>
  </link>
  <link name="rope_2_sphere_joint_3_link_2">
    <inertial>
      <mass value="0.001"/>
      <inertia ixx="0.0001" ixy="0" ixz="0" iyy="0.0001" iyz="0" izz="0.0001"/>
    </inertial>
  </link>
  <joint name="rope_2_sphere_joint_3_joint_x" type="continuous">
    <parent link="rope_2_link_2"/>
    <child link="rope_2_sphere_joint_3_link_1"/>
    <origin rpy="0 0 0" xyz="0 0 0.143"/>
    <axis xyz="1 0 0"/>
    <dynamics damping="0.005"/>
  </joint>
  <joint name="rope_2_sphere_joint_3_joint_y" type="continuous">
    <parent link="rope_2_sphere_joint_3_link_1"/>
    <child link="rope_2_sphere_joint_3_link_2"/>
    <axis xyz="0 1 0"/>
    <dynamics damping="0.005"/>
  </joint>
  <joint name="rope_2_sphere_joint_3_joint_z" type="continuous">
    <parent link="rope_2_sphere_joint_3_link_2"/>
    <child link="rope_2_link_3"/>
    <axis xyz="0 0 1"/>
    <dynamics damping="0.005"/>
  </joint>
  <link name="rope_2_sphere_joint_4_link_1">
    <inertial>
      <mass value="0.001"/>
      <inertia ixx="0.0001" ixy="0" ixz="0" iyy="0.0001" iyz="0" izz="0.0001"/>
    </inertial>
  </link>
  <link name="rope_2_sphere_joint_4_link_2">
    <inertial>
      <mass value="0.001"/>
      <inertia ixx="0.0001" ixy="0" ixz="0" iyy="0.0001" iyz="0" izz="0.0001"/>
    </inertial>
  </link>
  <joint name="rope_2_sphere_joint_4_joint_x" type="continuous">
    <parent link="rope_2_link_3"/>
    <child link="rope_2_sphere_joint_4_link_1"/>
    <origin rpy="0 0 0" xyz="0 0 0.143"/>
    <axis xyz="1 0 0"/>
    <dynamics damping="0.005"/>
  </joint>
  <joint name="rope_2_sphere_joint_4_joint_y" type="continuous">
    <parent link="rope_2_sphere_joint_4_link_1"/>
    <child link="rope_2_sphere_joint_4_link_2"/>
    <axis xyz="0 1 0"/>
    <dynamics damping="0.005"/>
  </joint>
  <joint name="rope_2_sphere_joint_4_joint_z" type="continuous">
    <parent link="rope_2_sphere_joint_4_link_2"/>
    <child link="rope_2_link_4"/>
    <axis xyz="0 0 1"/>
    <dynamics damping="0.005"/>
  </joint>
  <link name="rope_2_sphere_joint_5_link_1">
    <inertial>
      <mass value="0.001"/>
      <inertia ixx="0.0001" ixy="0" ixz="0" iyy="0.0001" iyz="0" izz="0.0001"/>
    </inertial>
  </link>
  <link name="rope_2_sphere_joint_5_link_2">
    <inertial>
      <mass value="0.001"/>
      <inertia ixx="0.0001" ixy="0" ixz="0" iyy="0.0001" iyz="0" izz="0.0001"/>
    </inertial>
  </link>
  <joint name="rope_2_sphere_joint_5_joint_x" type="continuous">
    <parent link="rope_2_link_4"/>
    <child link="rope_2_sphere_joint_5_link_1"/>
    <origin rpy="0 0 0" xyz="0 0 0.143"/>
    <axis xyz="1 0 0"/>
    <dynamics damping="0.005"/>
  </joint>
  <joint name="rope_2_sphere_joint_5_joint_y" type="continuous">
    <parent link="rope_2_sphere_joint_5_link_1"/>
    <child link="rope_2_sphere_joint_5_link_2"/>
    <axis xyz="0 1 0"/>
    <dynamics damping="0.005"/>
  </joint>
  <joint name="rope_2_sphere_joint_5_joint_z" type="continuous">
    <parent link="rope_2_sphere_joint_5_link_2"/>
    <child link="rope_2_link_5"/>
    <axis xyz="0 0 1"/>
    <dynamics damping="0.005"/>
  </joint>
  <link name="rope_2_sphere_joint_6_link_1">
    <inertial>
      <mass value="0.001"/>
      <inertia ixx="0.0001" ixy="0" ixz="0" iyy="0.0001" iyz="0" izz="0.0001"/>
    </inertial>
  </link>
  <link name="rope_2_sphere_joint_6_link_2">
    <inertial>
      <mass value="0.001"/>
      <inertia ixx="0.0001" ixy="0" ixz="0" iyy="0.0001" iyz="0" izz="0.0001"/>
    </inertial>
  </link>
  <joint name="rope_2_sphere_joint_6_joint_x" type="continuous">
    <parent link="rope_2_link_5"/>
    <child link="rope_2_sphere_joint_6_link_1"/>
    <origin rpy="0 0 0" xyz="0 0 0.143"/>
    <axis xyz="1 0 0"/>
    <dynamics damping="0.005"/>
  </joint>
  <joint name="rope_2_sphere_joint_6_joint_y" type="continuous">
    <parent link="rope_2_sphere_joint_6_link_1"/>
    <child link="rope_2_sphere_joint_6_link_2"/>
    <axis xyz="0 1 0"/>
    <dynamics damping="0.005"/>
  </joint>
  <joint name="rope_2_sphere_joint_6_joint_z" type="continuous">
    <parent link="rope_2_sphere_joint_6_link_2"/>
    <child link="rope_2_link_6"/>
    <axis xyz="0 0 1"/>
    <dynamics damping="0.005"/>
  </joint>
  <link name="rope_3_link_0">
    <visual>
      <!-- Set the origin to the start of the cilinder -->
      <origin rpy="0 0 0" xyz="0 0 0.0715"/>
      <geometry>
        <cylinder length="0.143" radius="0.0025"/>
      </geometry>
    </visual>
    <collision>
      <origin rpy="0 0 0" xyz="0 0 0.0715"/>
      <geometry>
        <cylinder length="0.143" radius="0.0025"/>
      </geometry>
    </collision>
    <inertial>
      <!-- Set the origin to the start of the cilinder -->
      <origin rpy="0 0 0" xyz="0 0 0"/>
      <mass value="0.0033692587500000004"/>
      <inertia ixx="0.00001" ixy="0" ixz="0" iyy="0.00001" iyz="0" izz="0.00001"/>
    </inertial>
  </link>
  <link name="rope_3_link_1">
    <visual>
      <!-- Set the origin to the start of the cilinder -->
      <origin rpy="0 0 0" xyz="0 0 0.0715"/>
      <geometry>
        <cylinder length="0.143" radius="0.0025"/>
      </geometry>
    </visual>
    <collision>
      <origin rpy="0 0 0" xyz="0 0 0.0715"/>
      <geometry>
        <cylinder length="0.143" radius="0.0025"/>
      </geometry>
    </collision>
    <inertial>
      <!-- Set the origin to the start of the cilinder -->
      <origin rpy="0 0 0" xyz="0 0 0"/>
      <mass value="0.0033692587500000004"/>
      <inertia ixx="0.00001" ixy="0" ixz="0" iyy="0.00001" iyz="0" izz="0.00001"/>
    </inertial>
  </link>
  <link name="rope_3_link_2">
    <visual>
      <!-- Set the origin to the start of the cilinder -->
      <origin rpy="0 0 0" xyz="0 0 0.0715"/>
      <geometry>
        <cylinder length="0.143" radius="0.0025"/>
      </geometry>
    </visual>
    <collision>
      <origin rpy="0 0 0" xyz="0 0 0.0715"/>
      <geometry>
        <cylinder length="0.143" radius="0.0025"/>
      </geometry>
    </collision>
    <inertial>
      <!-- Set the origin to the start of the cilinder -->
      <origin rpy="0 0 0" xyz="0 0 0"/>
      <mass value="0.0033692587500000004"/>
      <inertia ixx="0.00001" ixy="0" ixz="0" iyy="0.00001" iyz="0" izz="0.00001"/>
    </inertial>
  </link>
  <link name="rope_3_link_3">
    <visual>
      <!-- Set the origin to the start of the cilinder -->
      <origin rpy="0 0 0" xyz="0 0 0.0715"/>
      <geometry>
        <cylinder length="0.143" radius="0.0025"/>
      </geometry>
    </visual>
    <collision>
      <origin rpy="0 0 0" xyz="0 0 0.0715"/>
      <geometry>
        <cylinder length="0.143" radius="0.0025"/>
      </geometry>
    </collision>
    <inertial>
      <!-- Set the origin to the start of the cilinder -->
      <origin rpy="0 0 0" xyz="0 0 0"/>
      <mass value="0.0033692587500000004"/>
      <inertia ixx="0.00001" ixy="0" ixz="0" iyy="0.00001" iyz="0" izz="0.00001"/>
    </inertial>
  </link>
  <link name="rope_3_link_4">
    <visual>
      <!-- Set the origin to the start of the cilinder -->
      <origin rpy="0 0 0" xyz="0 0 0.0715"/>
      <geometry>
        <cylinder length="0.143" radius="0.0025"/>
      </geometry>
    </visual>
    <collision>
      <origin rpy="0 0 0" xyz="0 0 0.0715"/>
      <geometry>
        <cylinder length="0.143" radius="0.0025"/>
      </geometry>
    </collision>
    <inertial>
      <!-- Set the origin to the start of the cilinder -->
      <origin rpy="0 0 0" xyz="0 0 0"/>
      <mass value="0.0033692587500000004"/>
      <inertia ixx="0.00001" ixy="0" ixz="0" iyy="0.00001" iyz="0" izz="0.00001"/>
    </inertial>
  </link>
  <link name="rope_3_link_5">
    <visual>
      <!-- Set the origin to the start of the cilinder -->
      <origin rpy="0 0 0" xyz="0 0 0.0715"/>
      <geometry>
        <cylinder length="0.143" radius="0.0025"/>
      </geometry>
    </visual>
    <collision>
      <origin rpy="0 0 0" xyz="0 0 0.0715"/>
      <geometry>
        <cylinder length="0.143" radius="0.0025"/>
      </geometry>
    </collision>
    <inertial>
      <!-- Set the origin to the start of the cilinder -->
      <origin rpy="0 0 0" xyz="0 0 0"/>
      <mass value="0.0033692587500000004"/>
      <inertia ixx="0.00001" ixy="0" ixz="0" iyy="0.00001" iyz="0" izz="0.00001"/>
    </inertial>
  </link>
  <link name="rope_3_link_6">
    <visual>
      <!-- Set the origin to the start of the cilinder -->
      <origin rpy="0 0 0" xyz="0 0 0.0715"/>
      <geometry>
        <cylinder length="0.143" radius="0.0025"/>
      </geometry>
    </visual>
    <collision>
      <origin rpy="0 0 0" xyz="0 0 0.0715"/>
      <geometry>
        <cylinder length="0.143" radius="0.0025"/>
      </geometry>
    </collision>
    <inertial>
      <!-- Set the origin to the start of the cilinder -->
      <origin rpy="0 0 0" xyz="0 0 0"/>
      <mass value="0.0033692587500000004"/>
      <inertia ixx="0.00001" ixy="0" ixz="0" iyy="0.00001" iyz="0" izz="0.00001"/>
    </inertial>
  </link>
  <link name="rope_3_sphere_joint_1_link_1">
    <inertial>
      <mass value="0.001"/>
      <inertia ixx="0.0001" ixy="0" ixz="0" iyy="0.0001" iyz="0" izz="0.0001"/>
    </inertial>
  </link>
  <link name="rope_3_sphere_joint_1_link_2">
    <inertial>
      <mass value="0.001"/>
      <inertia ixx="0.0001" ixy="0" ixz="0" iyy="0.0001" iyz="0" izz="0.0001"/>
    </inertial>
  </link>
  <joint name="rope_3_sphere_joint_1_joint_x" type="continuous">
    <parent link="rope_3_link_0"/>
    <child link="rope_3_sphere_joint_1_link_1"/>
    <origin rpy="0 0 0" xyz="0 0 0.143"/>
    <axis xyz="1 0 0"/>
    <dynamics damping="0.005"/>
  </joint>
  <joint name="rope_3_sphere_joint_1_joint_y" type="continuous">
    <parent link="rope_3_sphere_joint_1_link_1"/>
    <child link="rope_3_sphere_joint_1_link_2"/>
    <axis xyz="0 1 0"/>
    <dynamics damping="0.005"/>
  </joint>
  <joint name="rope_3_sphere_joint_1_joint_z" type="continuous">
    <parent link="rope_3_sphere_joint_1_link_2"/>
    <child link="rope_3_link_1"/>
    <axis xyz="0 0 1"/>
    <dynamics damping="0.005"/>
  </joint>
  <link name="rope_3_sphere_joint_2_link_1">
    <inertial>
      <mass value="0.001"/>
      <inertia ixx="0.0001" ixy="0" ixz="0" iyy="0.0001" iyz="0" izz="0.0001"/>
    </inertial>
  </link>
  <link name="rope_3_sphere_joint_2_link_2">
    <inertial>
      <mass value="0.001"/>
      <inertia ixx="0.0001" ixy="0" ixz="0" iyy="0.0001" iyz="0" izz="0.0001"/>
    </inertial>
  </link>
  <joint name="rope_3_sphere_joint_2_joint_x" type="continuous">
    <parent link="rope_3_link_1"/>
    <child link="rope_3_sphere_joint_2_link_1"/>
    <origin rpy="0 0 0" xyz="0 0 0.143"/>
    <axis xyz="1 0 0"/>
    <dynamics damping="0.005"/>
  </joint>
  <joint name="rope_3_sphere_joint_2_joint_y" type="continuous">
    <parent link="rope_3_sphere_joint_2_link_1"/>
    <child link="rope_3_sphere_joint_2_link_2"/>
    <axis xyz="0 1 0"/>
    <dynamics damping="0.005"/>
  </joint>
  <joint name="rope_3_sphere_joint_2_joint_z" type="continuous">
    <parent link="rope_3_sphere_joint_2_link_2"/>
    <child link="rope_3_link_2"/>
    <axis xyz="0 0 1"/>
    <dynamics damping="0.005"/>
  </joint>
  <link name="rope_3_sphere_joint_3_link_1">
    <inertial>
      <mass value="0.001"/>
      <inertia ixx="0.0001" ixy="0" ixz="0" iyy="0.0001" iyz="0" izz="0.0001"/>
    </inertial>
  </link>
  <link name="rope_3_sphere_joint_3_link_2">
    <inertial>
      <mass value="0.001"/>
      <inertia ixx="0.0001" ixy="0" ixz="0" iyy="0.0001" iyz="0" izz="0.0001"/>
    </inertial>
  </link>
  <joint name="rope_3_sphere_joint_3_joint_x" type="continuous">
    <parent link="rope_3_link_2"/>
    <child link="rope_3_sphere_joint_3_link_1"/>
    <origin rpy="0 0 0" xyz="0 0 0.143"/>
    <axis xyz="1 0 0"/>
    <dynamics damping="0.005"/>
  </joint>
  <joint name="rope_3_sphere_joint_3_joint_y" type="continuous">
    <parent link="rope_3_sphere_joint_3_link_1"/>
    <child link="rope_3_sphere_joint_3_link_2"/>
    <axis xyz="0 1 0"/>
    <dynamics damping="0.005"/>
  </joint>
  <joint name="rope_3_sphere_joint_3_joint_z" type="continuous">
    <parent link="rope_3_sphere_joint_3_link_2"/>
    <child link="rope_3_link_3"/>
    <axis xyz="0 0 1"/>
    <dynamics damping="0.005"/>
  </joint>
  <link name="rope_3_sphere_joint_4_link_1">
    <inertial>
      <mass value="0.001"/>
      <inertia ixx="0.0001" ixy="0" ixz="0" iyy="0.0001" iyz="0" izz="0.0001"/>
    </inertial>
  </link>
  <link name="rope_3_sphere_joint_4_link_2">
    <inertial>
      <mass value="0.001"/>
      <inertia ixx="0.0001" ixy="0" ixz="0" iyy="0.0001" iyz="0" izz="0.0001"/>
    </inertial>
  </link>
  <joint name="rope_3_sphere_joint_4_joint_x" type="continuous">
    <parent link="rope_3_link_3"/>
    <child link="rope_3_sphere_joint_4_link_1"/>
    <origin rpy="0 0 0" xyz="0 0 0.143"/>
    <axis xyz="1 0 0"/>
    <dynamics damping="0.005"/>
  </joint>
  <joint name="rope_3_sphere_joint_4_joint_y" type="continuous">
    <parent link="rope_3_sphere_joint_4_link_1"/>
    <child link="rope_3_sphere_joint_4_link_2"/>
    <axis xyz="0 1 0"/>
    <dynamics damping="0.005"/>
  </joint>
  <joint name="rope_3_sphere_joint_4_joint_z" type="continuous">
    <parent link="rope_3_sphere_joint_4_link_2"/>
    <child link="rope_3_link_4"/>
    <axis xyz="0 0 1"/>
    <dynamics damping="0.005"/>
  </joint>
  <link name="rope_3_sphere_joint_5_link_1">
    <inertial>
      <mass value="0.001"/>
      <inertia ixx="0.0001" ixy="0" ixz="0" iyy="0.0001" iyz="0" izz="0.0001"/>
    </inertial>
  </link>
  <link name="rope_3_sphere_joint_5_link_2">
    <inertial>
      <mass value="0.001"/>
      <inertia ixx="0.0001" ixy="0" ixz="0" iyy="0.0001" iyz="0" izz="0.0001"/>
    </inertial>
  </link>
  <joint name="rope_3_sphere_joint_5_joint_x" type="continuous">
    <parent link="rope_3_link_4"/>
    <child link="rope_3_sphere_joint_5_link_1"/>
    <origin rpy="0 0 0" xyz="0 0 0.143"/>
    <axis xyz="1 0 0"/>
    <dynamics damping="0.005"/>
  </joint>
  <joint name="rope_3_sphere_joint_5_joint_y" type="continuous">
    <parent link="rope_3_sphere_joint_5_link_1"/>
    <child link="rope_3_sphere_joint_5_link_2"/>
    <axis xyz="0 1 0"/>
    <dynamics damping="0.005"/>
  </joint>
  <joint name="rope_3_sphere_joint_5_joint_z" type="continuous">
    <parent link="rope_3_sphere_joint_5_link_2"/>
    <child link="rope_3_link_5"/>
    <axis xyz="0 0 1"/>
    <dynamics damping="0.005"/>
  </joint>
  <link name="rope_3_sphere_joint_6_link_1">
    <inertial>
      <mass value="0.001"/>
      <inertia ixx="0.0001" ixy="0" ixz="0" iyy="0.0001" iyz="0" izz="0.0001"/>
    </inertial>
  </link>
  <link name="rope_3_sphere_joint_6_link_2">
    <inertial>
      <mass value="0.001"/>
      <inertia ixx="0.0001" ixy="0" ixz="0" iyy="0.0001" iyz="0" izz="0.0001"/>
    </inertial>
  </link>
  <joint name="rope_3_sphere_joint_6_joint_x" type="continuous">
    <parent link="rope_3_link_5"/>
    <child link="rope_3_sphere_joint_6_link_1"/>
    <origin rpy="0 0 0" xyz="0 0 0.143"/>
    <axis xyz="1 0 0"/>
    <dynamics damping="0.005"/>
  </joint>
  <joint name="rope_3_sphere_joint_6_joint_y" type="continuous">
    <parent link="rope_3_sphere_joint_6_link_1"/>
    <child link="rope_3_sphere_joint_6_link_2"/>
    <axis xyz="0 1 0"/>
    <dynamics damping="0.005"/>
  </joint>
  <joint name="rope_3_sphere_joint_6_joint_z" type="continuous">
    <parent link="rope_3_sphere_joint_6_link_2"/>
    <child link="rope_3_link_6"/>
    <axis xyz="0 0 1"/>
    <dynamics damping="0.005"/>
  </joint>
  <link name="rope_1_sphere_joint_0_link_1">
    <inertial>
      <mass value="0.001"/>
      <inertia ixx="0.0001" ixy="0" ixz="0" iyy="0.0001" iyz="0" izz="0.0001"/>
    </inertial>
  </link>
  <link name="rope_1_sphere_joint_0_link_2">
    <inertial>
      <mass value="0.001"/>
      <inertia ixx="0.0001" ixy="0" ixz="0" iyy="0.0001" iyz="0" izz="0.0001"/>
    </inertial>
  </link>
  <joint name="rope_1_sphere_joint_0_joint_x" type="continuous">
    <parent link="load_link"/>
    <child link="rope_1_sphere_joint_0_link_1"/>
    <origin rpy="-1 0 0" xyz="0.24 0.22 0.14"/>
    <axis xyz="1 0 0"/>
    <dynamics damping="0.005"/>
  </joint>
  <joint name="rope_1_sphere_joint_0_joint_y" type="continuous">
    <parent link="rope_1_sphere_joint_0_link_1"/>
    <child link="rope_1_sphere_joint_0_link_2"/>
    <axis xyz="0 1 0"/>
    <dynamics damping="0.005"/>
  </joint>
  <joint name="rope_1_sphere_joint_0_joint_z" type="continuous">
    <parent link="rope_1_sphere_joint_0_link_2"/>
    <child link="rope_1_link_0"/>
    <axis xyz="0 0 1"/>
    <dynamics damping="0.005"/>
  </joint>
  <link name="rope_2_sphere_joint_0_link_1">
    <inertial>
      <mass value="0.001"/>
      <inertia ixx="0.0001" ixy="0" ixz="0" iyy="0.0001" iyz="0" izz="0.0001"/>
    </inertial>
  </link>
  <link name="rope_2_sphere_joint_0_link_2">
    <inertial>
      <mass value="0.001"/>
      <inertia ixx="0.0001" ixy="0" ixz="0" iyy="0.0001" iyz="0" izz="0.0001"/>
    </inertial>
  </link>
  <joint name="rope_2_sphere_joint_0_joint_x" type="continuous">
    <parent link="load_link"/>
    <child link="rope_2_sphere_joint_0_link_1"/>
    <origin rpy="1 0 0" xyz="0.24 -0.22 0.14"/>
    <axis xyz="1 0 0"/>
    <dynamics damping="0.005"/>
  </joint>
  <joint name="rope_2_sphere_joint_0_joint_y" type="continuous">
    <parent link="rope_2_sphere_joint_0_link_1"/>
    <child link="rope_2_sphere_joint_0_link_2"/>
    <axis xyz="0 1 0"/>
    <dynamics damping="0.005"/>
  </joint>
  <joint name="rope_2_sphere_joint_0_joint_z" type="continuous">
    <parent link="rope_2_sphere_joint_0_link_2"/>
    <child link="rope_2_link_0"/>
    <axis xyz="0 0 1"/>
    <dynamics damping="0.005"/>
  </joint>
  <link name="rope_3_sphere_joint_0_link_1">
    <inertial>
      <mass value="0.001"/>
      <inertia ixx="0.0001" ixy="0" ixz="0" iyy="0.0001" iyz="0" izz="0.0001"/>
    </inertial>
  </link>
  <link name="rope_3_sphere_joint_0_link_2">
    <inertial>
      <mass value="0.001"/>
      <inertia ixx="0.0001" ixy="0" ixz="0" iyy="0.0001" iyz="0" izz="0.0001"/>
    </inertial>
  </link>
  <joint name="rope_3_sphere_joint_0_joint_x" type="continuous">
    <parent link="load_link"/>
    <child link="rope_3_sphere_joint_0_link_1"/>
    <origin rpy="0 -1 0" xyz="-0.28 0.018 0.14"/>
    <axis xyz="1 0 0"/>
    <dynamics damping="0.005"/>
  </joint>
  <joint name="rope_3_sphere_joint_0_joint_y" type="continuous">
    <parent link="rope_3_sphere_joint_0_link_1"/>
    <child link="rope_3_sphere_joint_0_link_2"/>
    <axis xyz="0 1 0"/>
    <dynamics damping="0.005"/>
  </joint>
  <joint name="rope_3_sphere_joint_0_joint_z" type="continuous">
    <parent link="rope_3_sphere_joint_0_link_2"/>
    <child link="rope_3_link_0"/>
    <axis xyz="0 0 1"/>
    <dynamics damping="0.005"/>
  </joint>
  <link name="rope_1_sphere_joint_7_link_1">
    <inertial>
      <mass value="0.001"/>
      <inertia ixx="0.0001" ixy="0" ixz="0" iyy="0.0001" iyz="0" izz="0.0001"/>
    </inertial>
  </link>
  <link name="rope_1_sphere_joint_7_link_2">
    <inertial>
      <mass value="0.001"/>
      <inertia ixx="0.0001" ixy="0" ixz="0" iyy="0.0001" iyz="0" izz="0.0001"/>
    </inertial>
  </link>
  <joint name="rope_1_sphere_joint_7_joint_x" type="continuous">
    <parent link="rope_1_link_6"/>
    <child link="rope_1_sphere_joint_7_link_1"/>
    <origin rpy="0 0 0" xyz="0 0 0.143"/>
    <axis xyz="1 0 0"/>
    <dynamics damping="0.005"/>
  </joint>
  <joint name="rope_1_sphere_joint_7_joint_y" type="continuous">
    <parent link="rope_1_sphere_joint_7_link_1"/>
    <child link="rope_1_sphere_joint_7_link_2"/>
    <axis xyz="0 1 0"/>
    <dynamics damping="0.005"/>
  </joint>
  <joint name="rope_1_sphere_joint_7_joint_z" type="continuous">
    <parent link="rope_1_sphere_joint_7_link_2"/>
    <child link="Falcon1/base_link"/>
    <axis xyz="0 0 1"/>
    <dynamics damping="0.005"/>
  </joint>
  <link name="rope_2_sphere_joint_7_link_1">
    <inertial>
      <mass value="0.001"/>
      <inertia ixx="0.0001" ixy="0" ixz="0" iyy="0.0001" iyz="0" izz="0.0001"/>
    </inertial>
  </link>
  <link name="rope_2_sphere_joint_7_link_2">
    <inertial>
      <mass value="0.001"/>
      <inertia ixx="0.0001" ixy="0" ixz="0" iyy="0.0001" iyz="0" izz="0.0001"/>
    </inertial>
  </link>
  <joint name="rope_2_sphere_joint_7_joint_x" type="continuous">
    <parent link="rope_2_link_6"/>
    <child link="rope_2_sphere_joint_7_link_1"/>
    <origin rpy="0 0 0" xyz="0 0 0.143"/>
    <axis xyz="1 0 0"/>
    <dynamics damping="0.005"/>
  </joint>
  <joint name="rope_2_sphere_joint_7_joint_y" type="continuous">
    <parent link="rope_2_sphere_joint_7_link_1"/>
    <child link="rope_2_sphere_joint_7_link_2"/>
    <axis xyz="0 1 0"/>
    <dynamics damping="0.005"/>
  </joint>
  <joint name="rope_2_sphere_joint_7_joint_z" type="continuous">
    <parent link="rope_2_sphere_joint_7_link_2"/>
    <child link="Falcon2/base_link"/>
    <axis xyz="0 0 1"/>
    <dynamics damping="0.005"/>
  </joint>
  <link name="rope_3_sphere_joint_7_link_1">
    <inertial>
      <mass value="0.001"/>
      <inertia ixx="0.0001" ixy="0" ixz="0" iyy="0.0001" iyz="0" izz="0.0001"/>
    </inertial>
  </link>
  <link name="rope_3_sphere_joint_7_link_2">
    <inertial>
      <mass value="0.001"/>
      <inertia ixx="0.0001" ixy="0" ixz="0" iyy="0.0001" iyz="0" izz="0.0001"/>
    </inertial>
  </link>
  <joint name="rope_3_sphere_joint_7_joint_x" type="continuous">
    <parent link="rope_3_link_6"/>
    <child link="rope_3_sphere_joint_7_link_1"/>
    <origin rpy="0 0 0" xyz="0 0 0.143"/>
    <axis xyz="1 0 0"/>
    <dynamics damping="0.005"/>
  </joint>
  <joint name="rope_3_sphere_joint_7_joint_y" type="continuous">
    <parent link="rope_3_sphere_joint_7_link_1"/>
    <child link="rope_3_sphere_joint_7_link_2"/>
    <axis xyz="0 1 0"/>
    <dynamics damping="0.005"/>
  </joint>
  <joint name="rope_3_sphere_joint_7_joint_z" type="continuous">
    <parent link="rope_3_sphere_joint_7_link_2"/>
    <child link="Falcon3/base_link"/>
    <axis xyz="0 0 1"/>
    <dynamics damping="0.005"/>
  </joint>
</robot>
